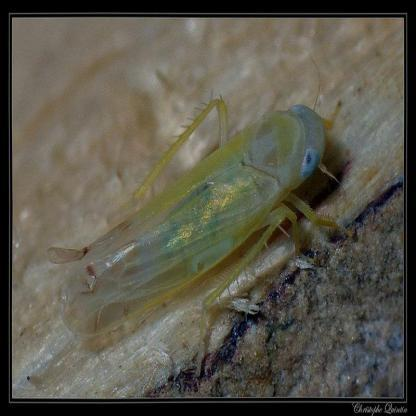green-leafhopper: (62, 98, 338, 337)
